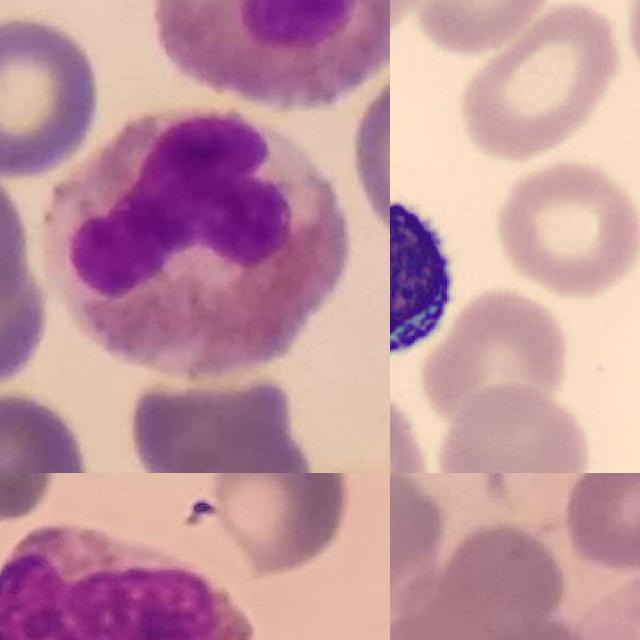Eosinophil: (0, 526, 286, 640), (141, 0, 390, 108)
Lymphocyte: (390, 177, 466, 380)
Monocyte: (45, 109, 351, 380)
RBC: (452, 0, 628, 164), (417, 282, 573, 437), (489, 156, 640, 300), (431, 383, 598, 473), (409, 0, 555, 55)
